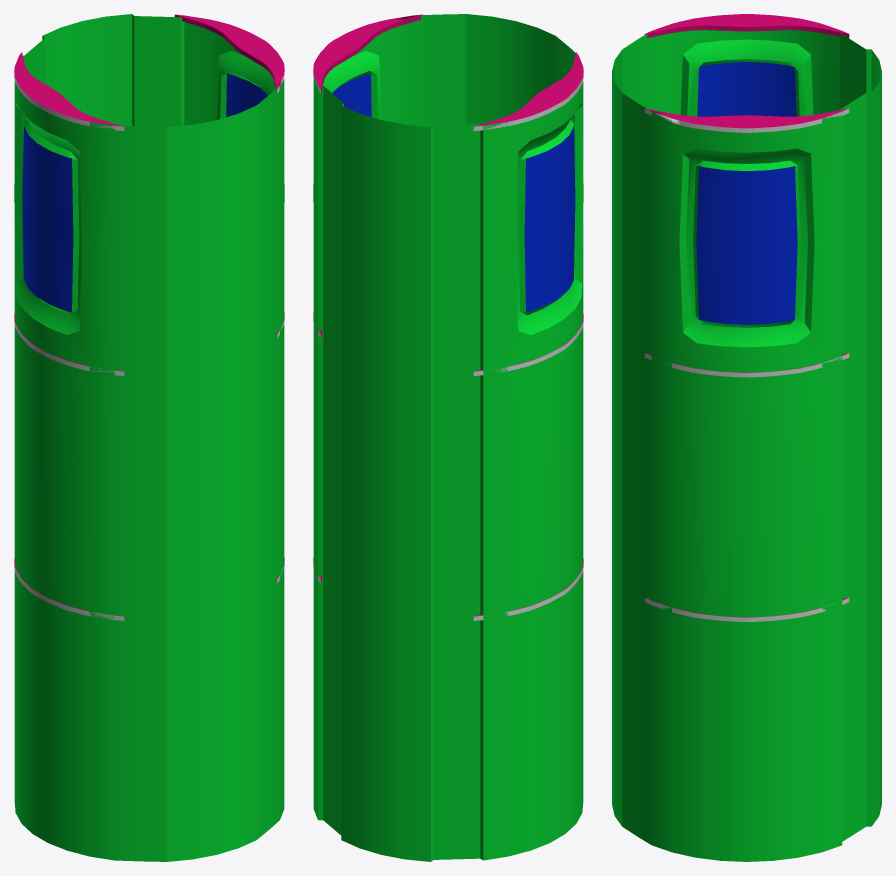
File: tunnel_cyber.dae
3 renders of one model, left to right at view 1: azimuth 30°, elevation 25°; view 2: azimuth 150°, elevation 25°; view 3: azimuth 270°, elevation 25°, orthographic.
Parts seen in each view (by area): view 1: tunnel_cyber; view 2: tunnel_cyber; view 3: tunnel_cyber.
Part boxes in pixels (x1,y1,x2,y2): tunnel_cyber: [14, 14, 284, 861]; tunnel_cyber: [313, 14, 583, 861]; tunnel_cyber: [612, 14, 881, 861].
Bounding box in the file's own units: 5.45 × 5.44 × 16.31.
